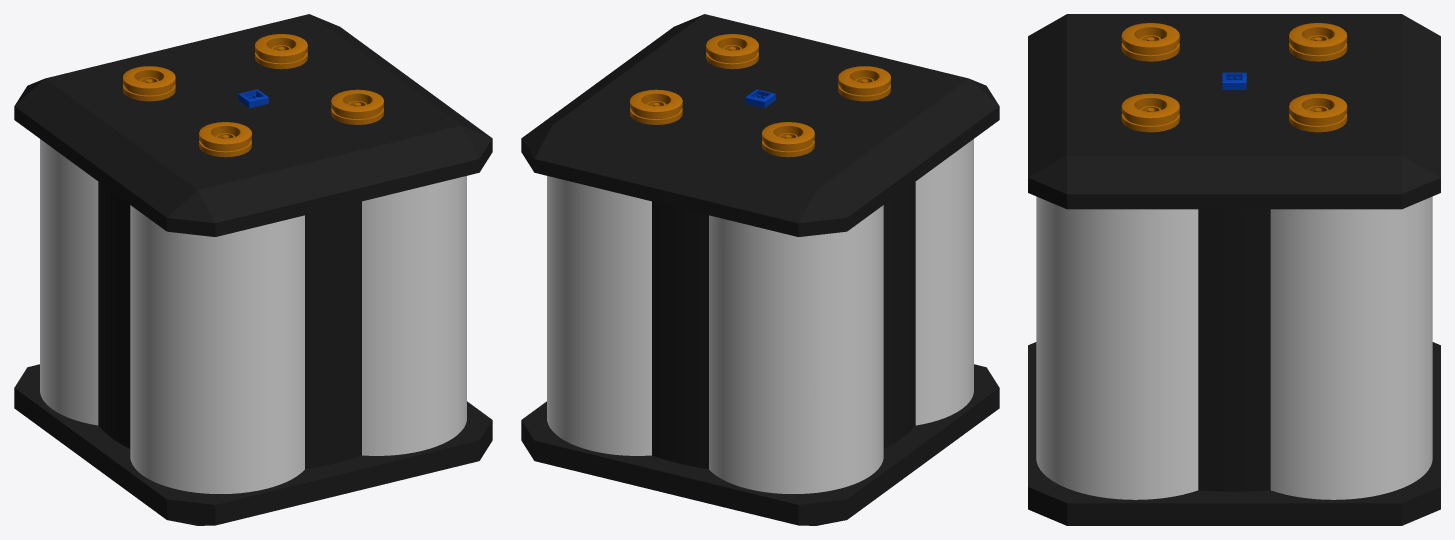
The model's file is HighVoltageBattery.gltf.
3 views of the same model, side by side, from view 1: azimuth 30°, elevation 25°; view 2: azimuth 150°, elevation 25°; view 3: azimuth 270°, elevation 25° (orthographic). The views are drawn at different scales.
Visible parts, largest first — view 1: Body; view 2: Body; view 3: Body.
Boxes of the visible parts, x1=… form: Body: x1=14, y1=14, x2=492, y2=525; Body: x1=521, y1=14, x2=999, y2=525; Body: x1=1028, y1=14, x2=1440, y2=525.
Size of the model in its own units: 1 by 1.03 by 1.
